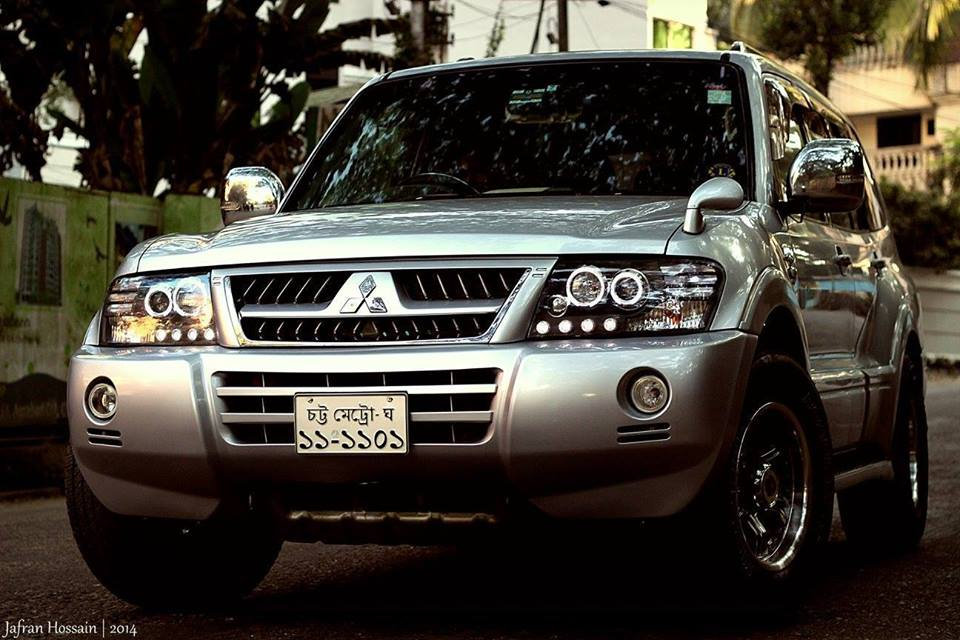registration_plate: (293, 392, 410, 455)
